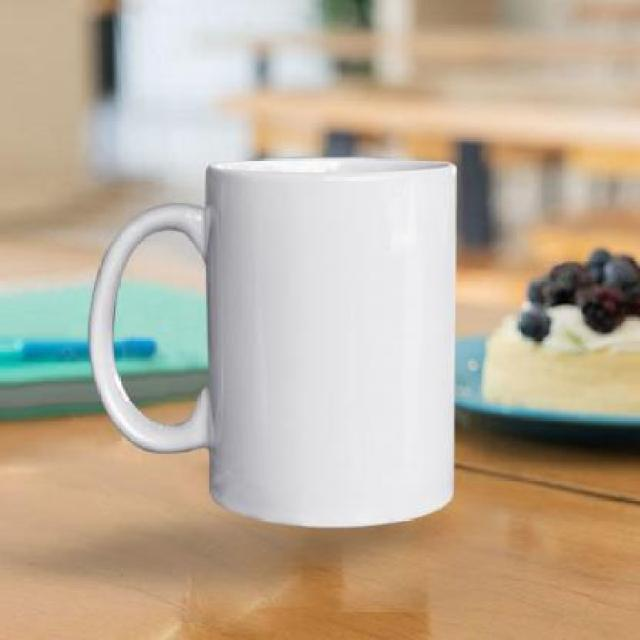taza: (73, 132, 477, 538)
